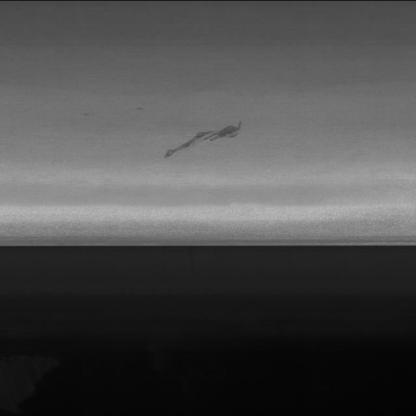water_spot: (157, 118, 254, 164)
